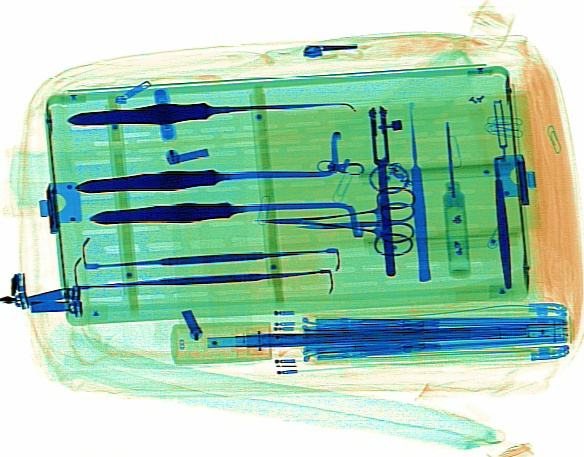scissors: (255, 188, 417, 257), (292, 200, 413, 240)
